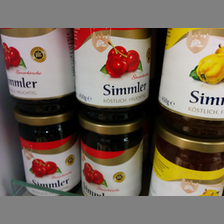jam: (73, 28, 154, 125), (157, 29, 224, 140), (1, 29, 75, 116), (14, 108, 80, 195), (144, 128, 224, 196), (80, 120, 146, 196)
